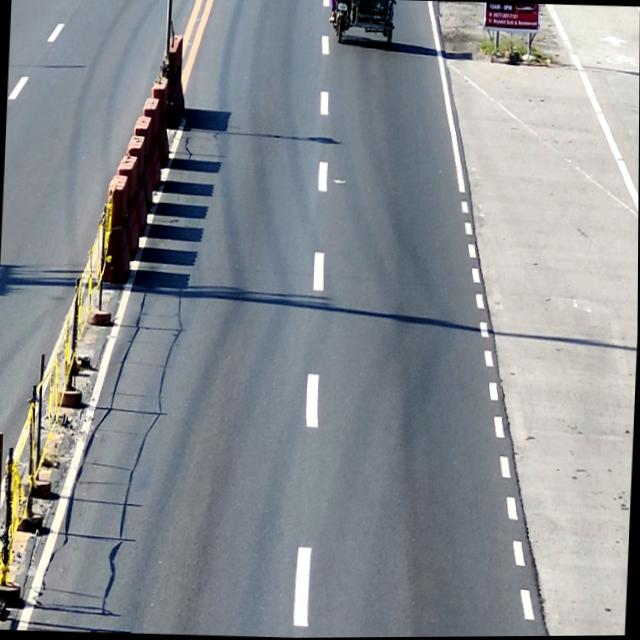License-Plate: (337, 1, 348, 11)
Tricycle: (330, 0, 396, 43)
